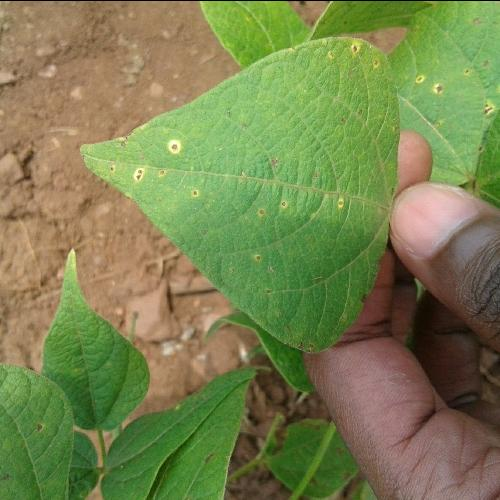hawar: (84, 94, 208, 204), (236, 167, 370, 266), (320, 10, 442, 66), (398, 66, 490, 117), (22, 376, 70, 444)
